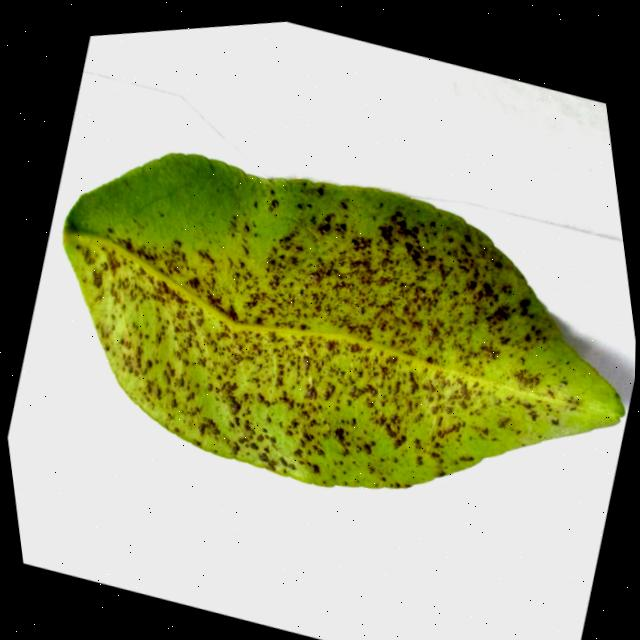melanose: (63, 153, 623, 488)
